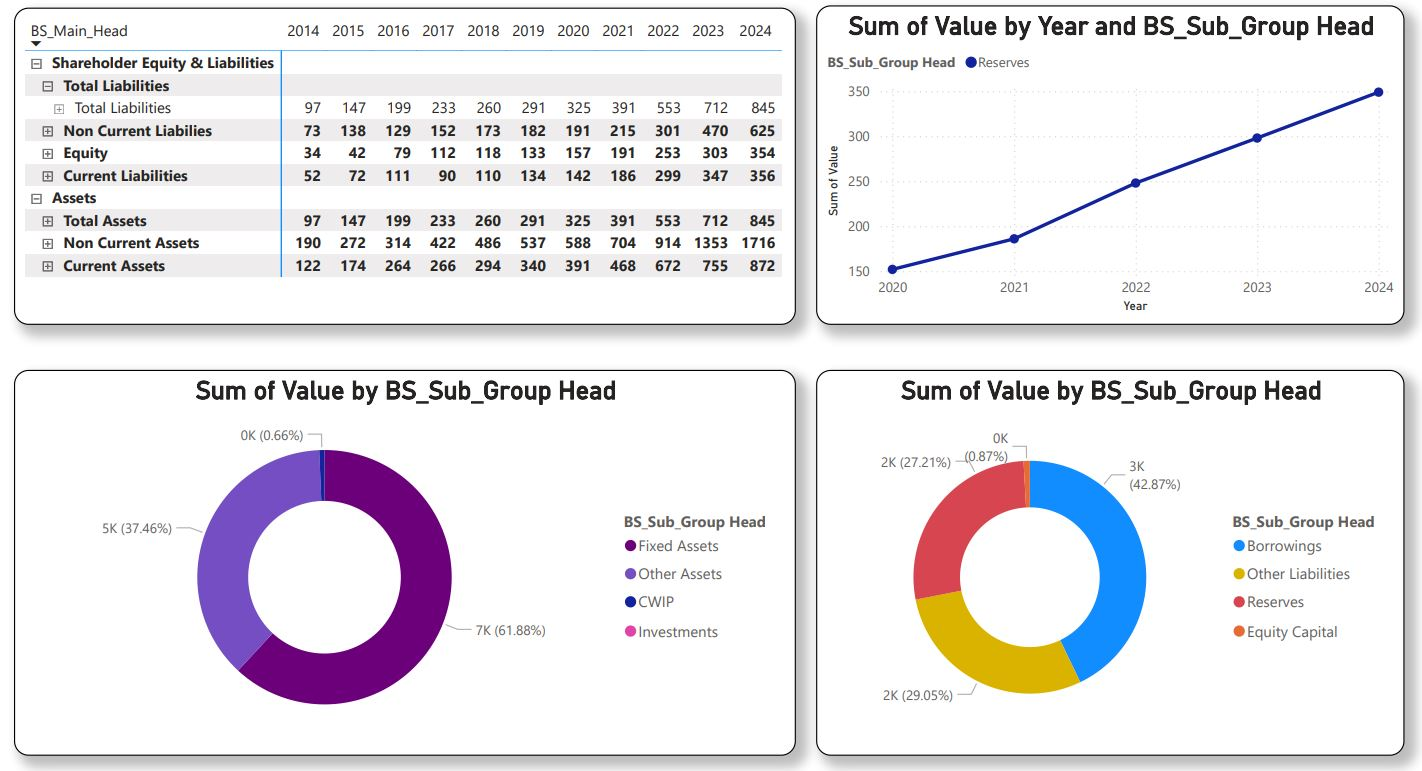

What the dashboard file says about the page in this screenshot:
{"tool":"powerbi","page":{"name":"Balance Sheet","canvas":[1280,720],"ordinal":5},"visuals":[{"type":"pivotTable","fields":{"Rows":["BS Fact.BS_Main_Head","BS Fact.BS_Group_Head","BS Fact.BS_Sub_Group Head","BS Fact.BS_Node Head"],"Columns":["Date Dim.Date.Variation.Date Hierarchy.Year"],"Values":["Sum(BS Fact.Value)"]},"box":[24.1,20.5,694.9,282.3],"z":0},{"type":"lineChart","fields":{"Category":["Date Dim.Date.Variation.Date Hierarchy.Year"],"Y":["Sum(BS Fact.Value)"],"Series":["BS Fact.BS_Sub_Group Head"]},"box":[737.1,19.3,522.4,283.5],"z":1000},{"type":"donutChart","fields":{"Category":["BS Dim.BS_Sub_Group Head"],"Y":["Sum(BS Fact.Value)"]},"box":[24.1,342.6,694.9,343.8],"z":2000},{"type":"donutChart","fields":{"Category":["BS Dim.BS_Sub_Group Head"],"Y":["Sum(BS Fact.Value)"]},"box":[737.1,342.6,522.4,343.8],"z":3000}]}

Visuals, with their boxes on the page's 1280x720 design canvas (x1, y1, x2, y2). These are canvas units, not pixel positions in the 1422x771 screenshot, which may show the page scaled, cropped or inside an application window:
pivotTable - BS Fact.BS_Main_Head x BS Fact.BS_Group_Head: rect(24, 20, 719, 303)
lineChart - Date Dim.Date.Variation.Date Hierarchy.Year x Sum(BS Fact.Value): rect(737, 19, 1260, 303)
donutChart - BS Dim.BS_Sub_Group Head x Sum(BS Fact.Value): rect(24, 343, 719, 686)
donutChart - BS Dim.BS_Sub_Group Head x Sum(BS Fact.Value): rect(737, 343, 1260, 686)
